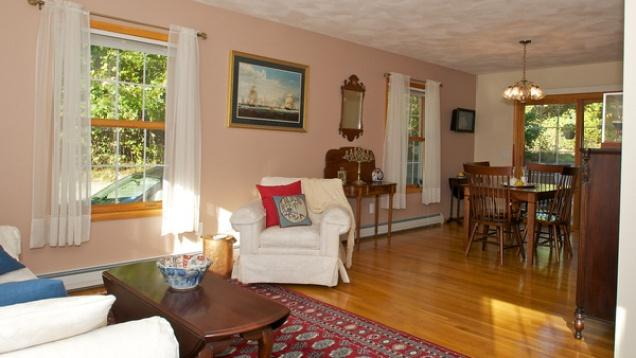Meja: (102, 255, 291, 357)
